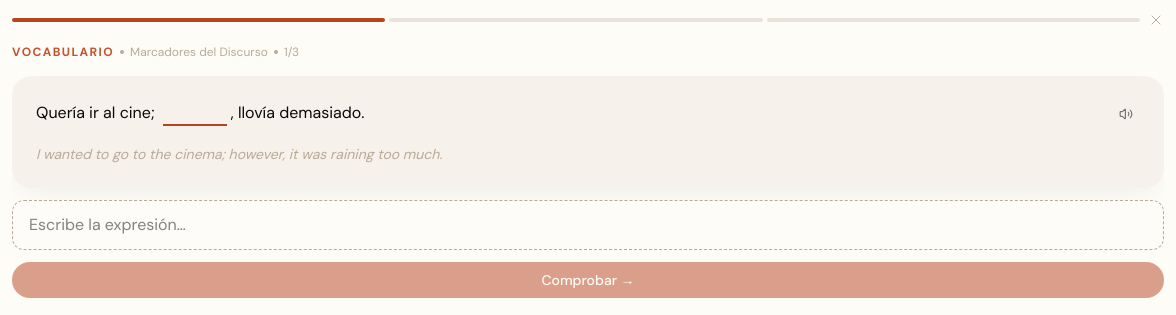
it: VocabSession › shows inline success display on correct answer
Step 1. Type "sin embargo" into the field with placeholder "Escribe la expresión…" → (588, 225), box top-left (29, 213), bottom-right (1147, 237)
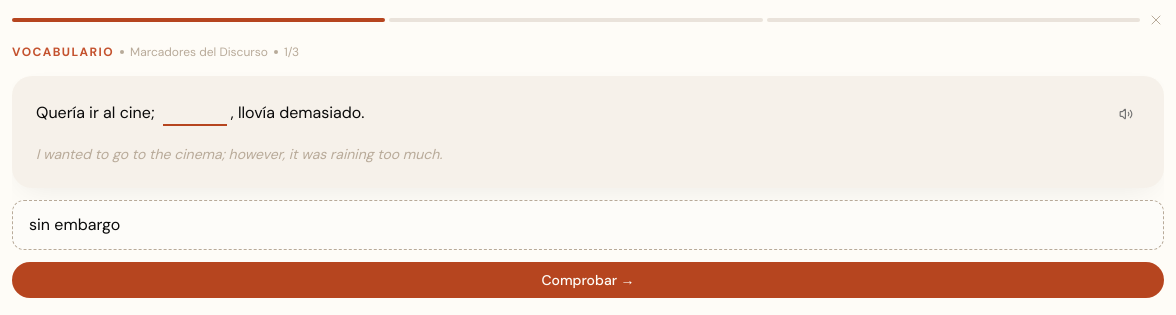
Step 2. Click the button "Comprobar →" → (588, 280), box top-left (12, 262), bottom-right (1164, 298)
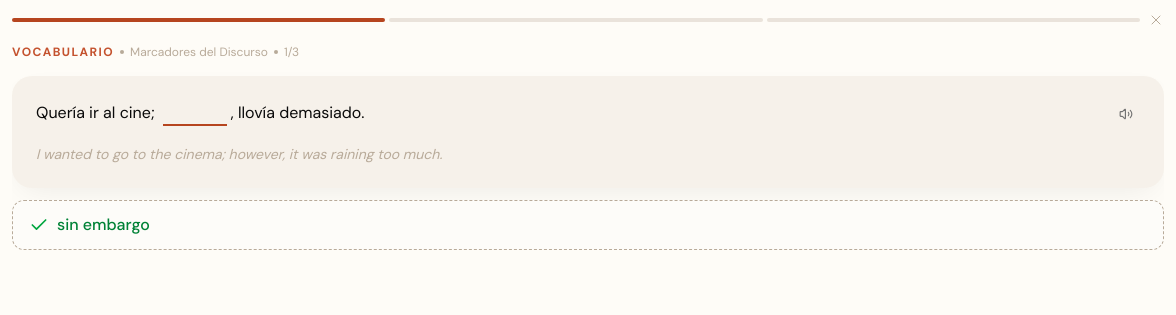
Expected: the field with placeholder "Escribe la expresión" is not shown
Result: the text "sin embargo" is shown at top-left (57, 213), bottom-right (150, 237)
Result: the button "Comprobar" is gone
